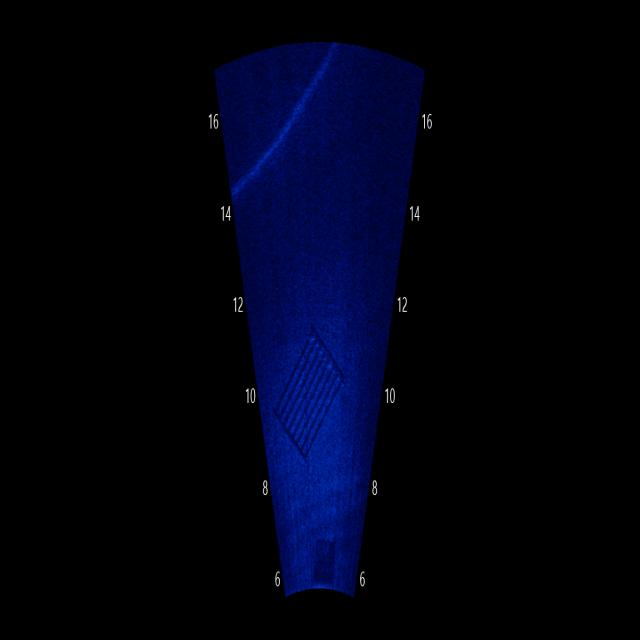square: (267, 314, 352, 470), (309, 516, 343, 594)
